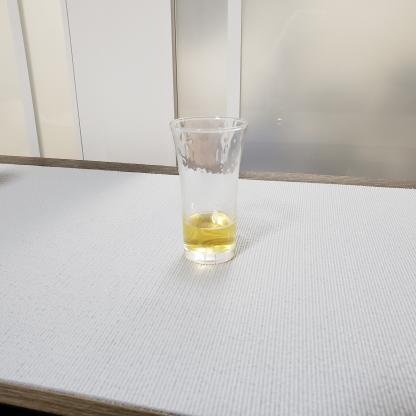glass: (164, 107, 264, 278)
